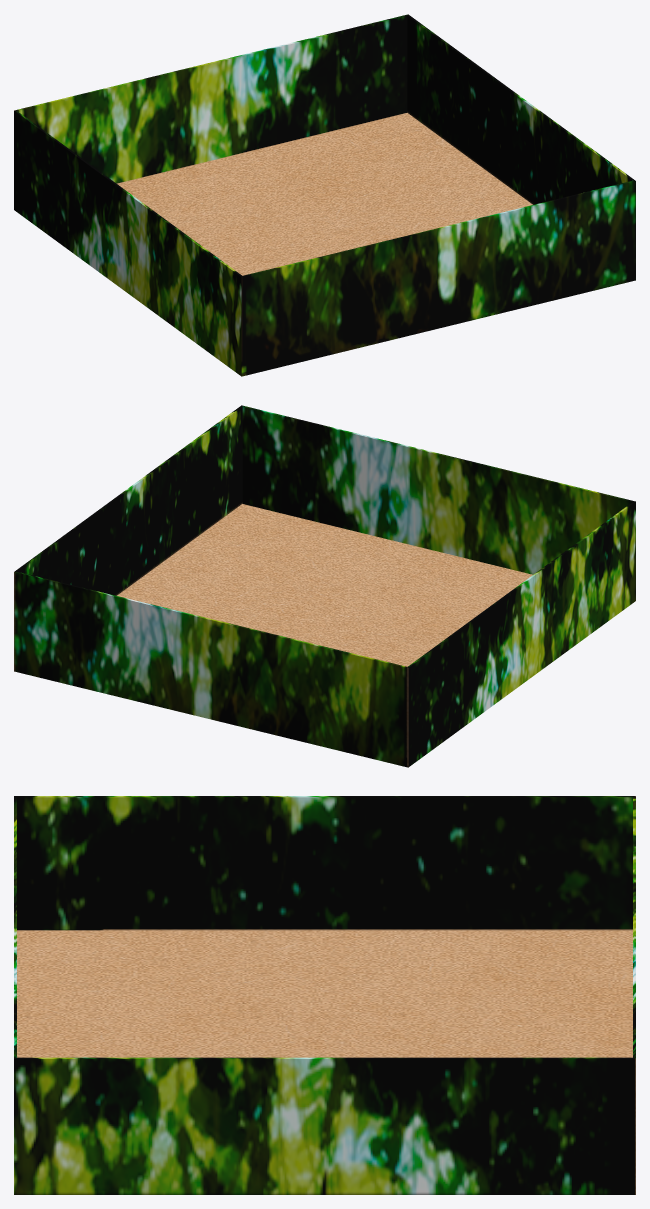
The model's file is Boardgame_Box_Bottom_1.fbx.
3 renders of one model, top to bottom at view 1: azimuth 30°, elevation 25°; view 2: azimuth 150°, elevation 25°; view 3: azimuth 270°, elevation 25°, orthographic. The views are drawn at different scales.
Visible parts, largest first — view 1: BoardgameBox_Bottom_1_LOD0; view 2: BoardgameBox_Bottom_1_LOD0; view 3: BoardgameBox_Bottom_1_LOD0.
Part boxes in pixels (<box>): BoardgameBox_Bottom_1_LOD0: <box>14,14,635,376</box>; BoardgameBox_Bottom_1_LOD0: <box>14,405,635,767</box>; BoardgameBox_Bottom_1_LOD0: <box>14,796,635,1194</box>.
Size of what is drawn, in the model's own units: 0.297 by 0.0716 by 0.297.
